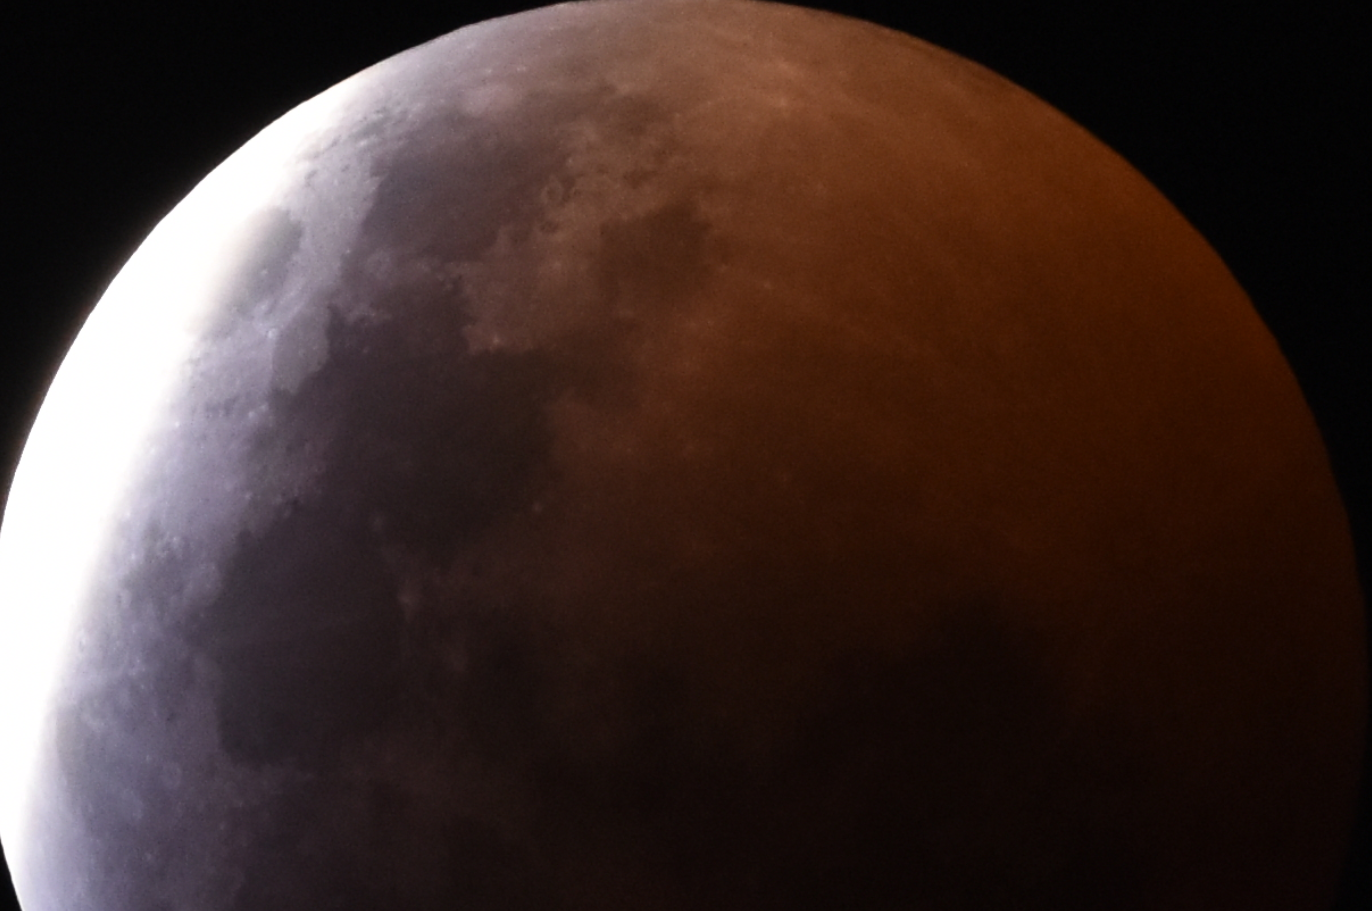crater: (451, 73, 528, 134), (147, 749, 206, 802), (749, 266, 800, 315), (108, 782, 159, 831), (764, 87, 816, 134), (391, 580, 434, 625), (702, 241, 741, 289), (225, 469, 264, 514), (237, 398, 284, 434), (755, 446, 796, 487), (520, 489, 551, 523), (253, 258, 280, 286), (483, 324, 509, 352), (225, 791, 248, 814), (337, 240, 356, 258)
